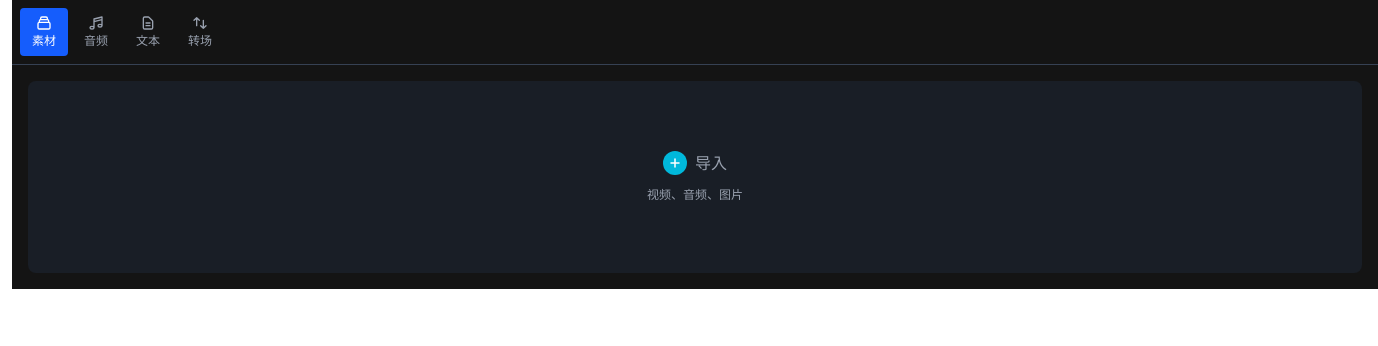
MediaLibrary › 6.1.6 测试面包屑导航 › should show back button in breadcrumb
The width and height of the screenshot is (1378, 346).
Create and enter folder
Right-click the element showing "导入 视频、音频、图片".
right_click(695, 177)  # box [28,81,1362,273]
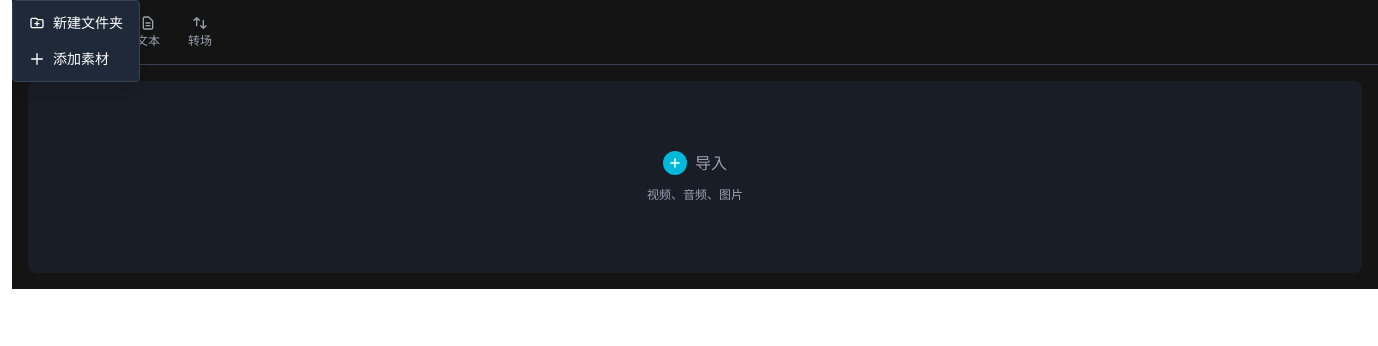
Click the button "新建文件夹".
click(76, 23)  # box [13,5,139,41]
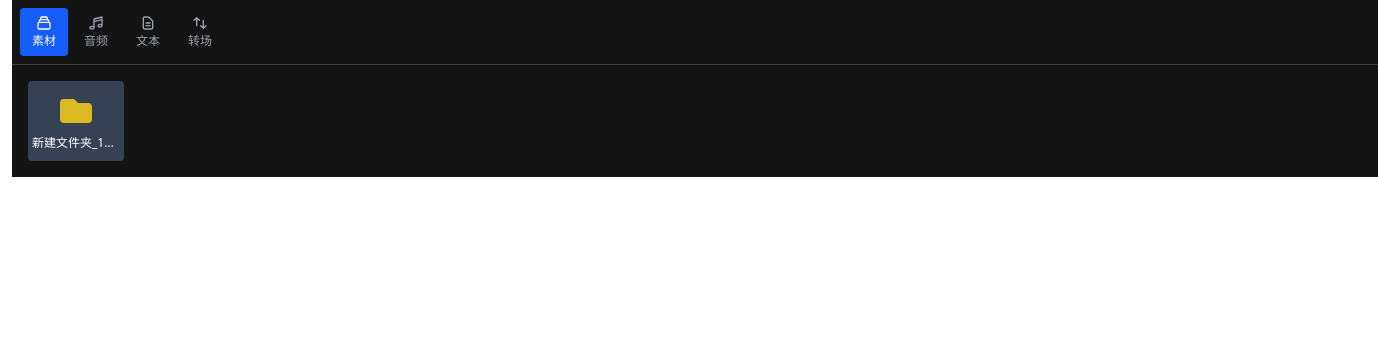
Double-click the text "新建文件夹_1772621038888".
double_click(76, 121)  # box [28,81,124,161]
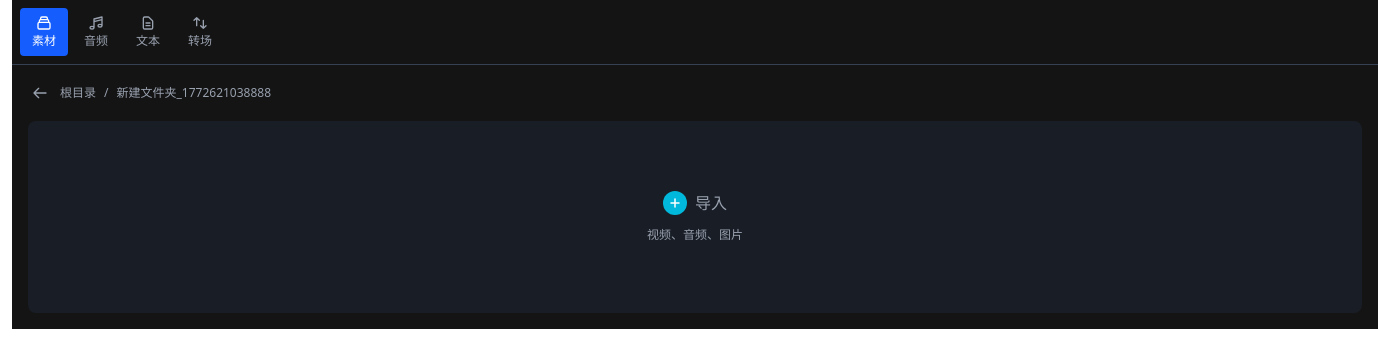
Expected: the button titled "返回上一级" is shown, [28,81,52,105]
